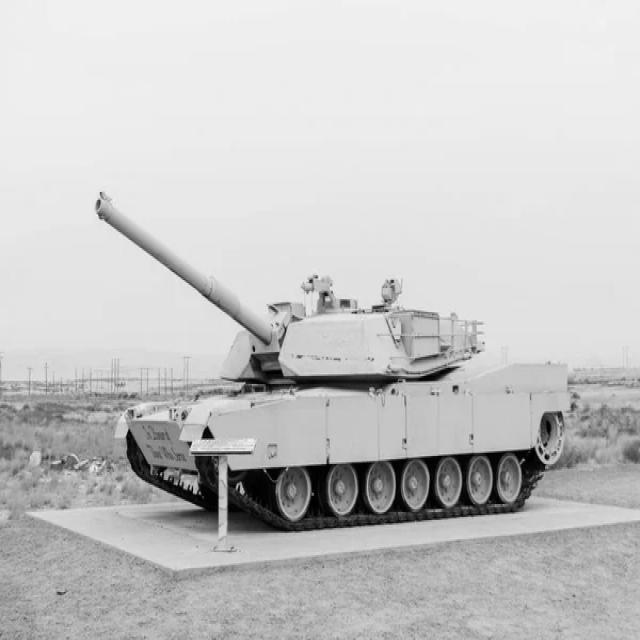Tank: (92, 182, 581, 534)
